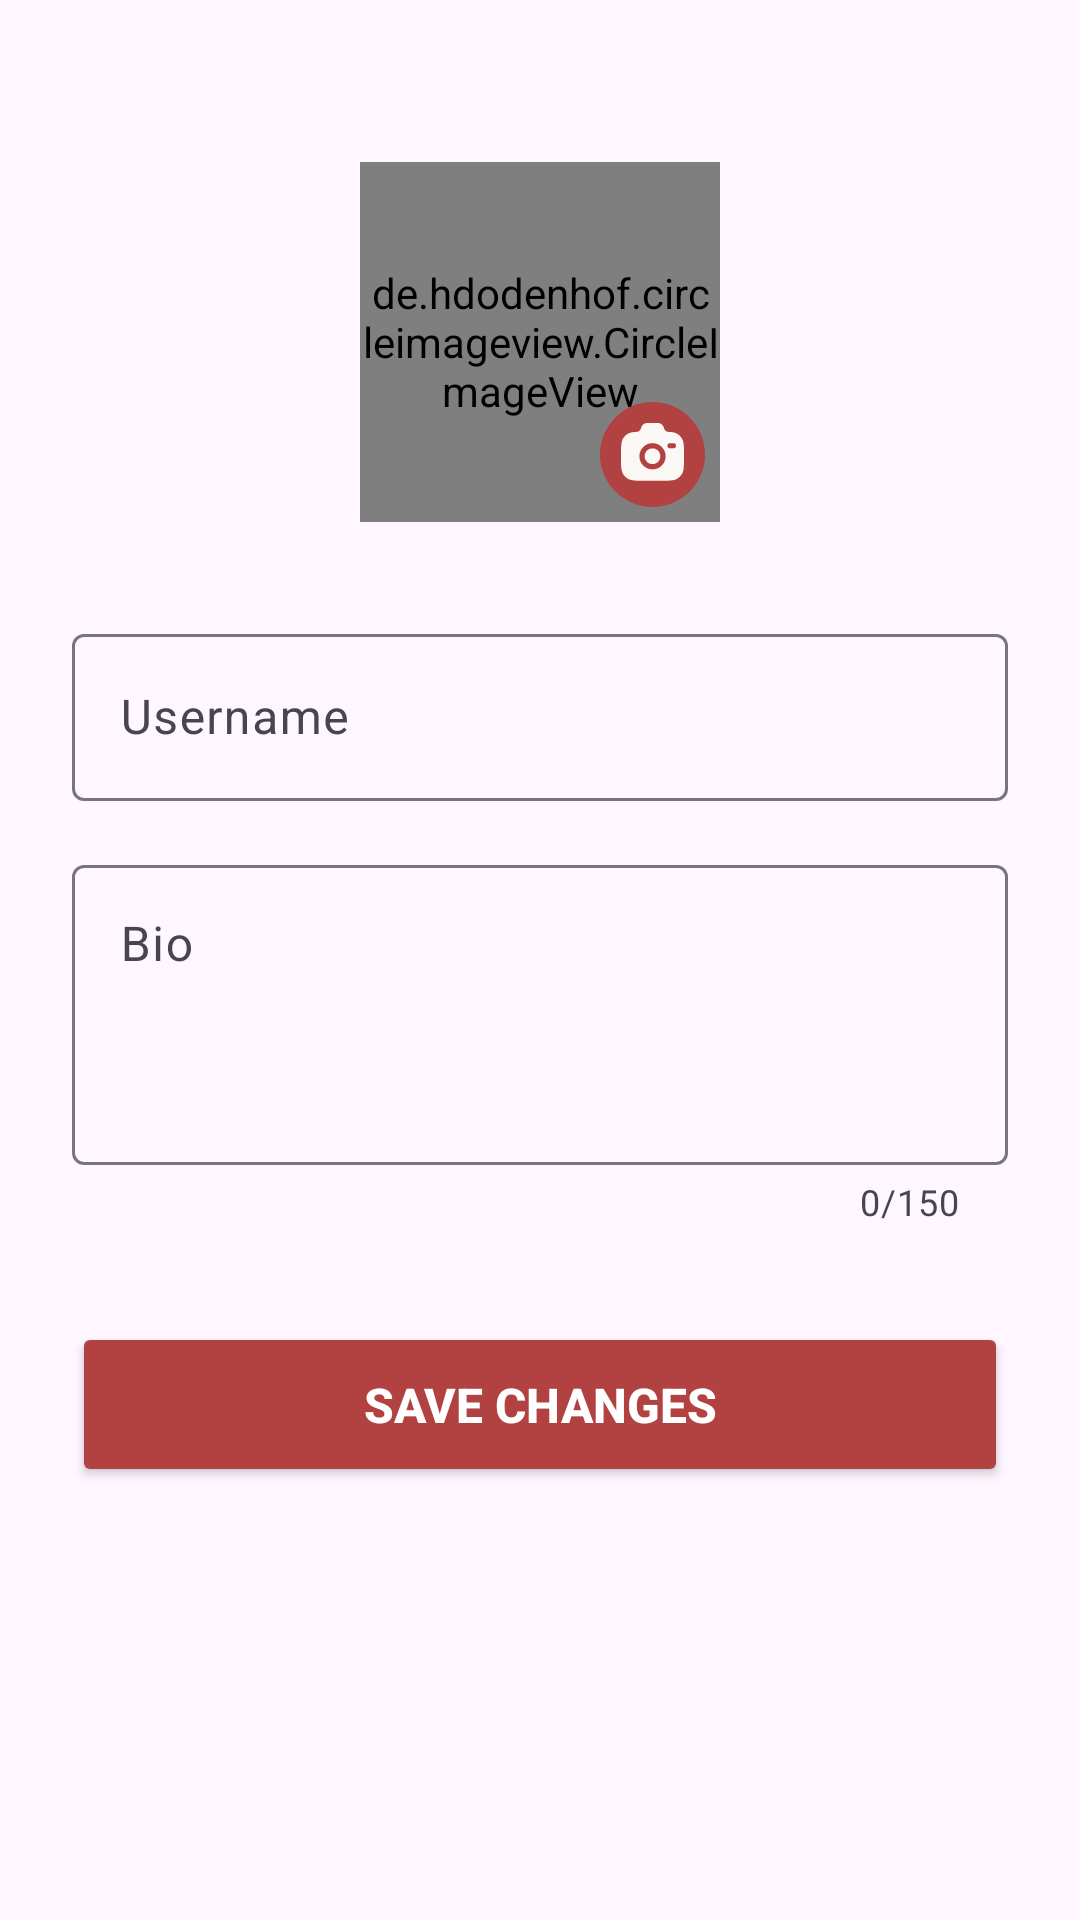

Named icons in this screenshot (1080x1920) and their bounding boxes, {"x1": x1, "y1": y1, "x2": x2, "y2": y2}:
camera: {"x1": 600, "y1": 402, "x2": 705, "y2": 507}
